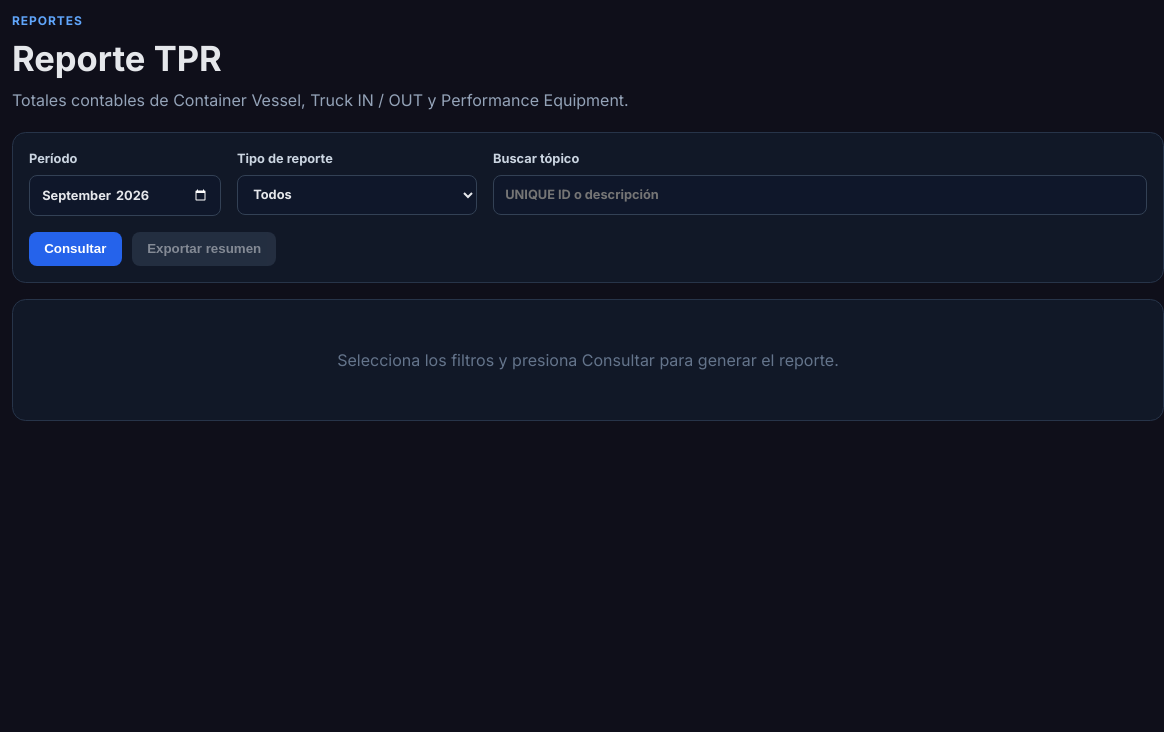
TprReportView › renders exactly the three requested summary columns after consulting
What coordinates should you click on to do the following:
click the button "Consultar"
I would click on:
 (75, 249)
Its box is [29,232,122,266].
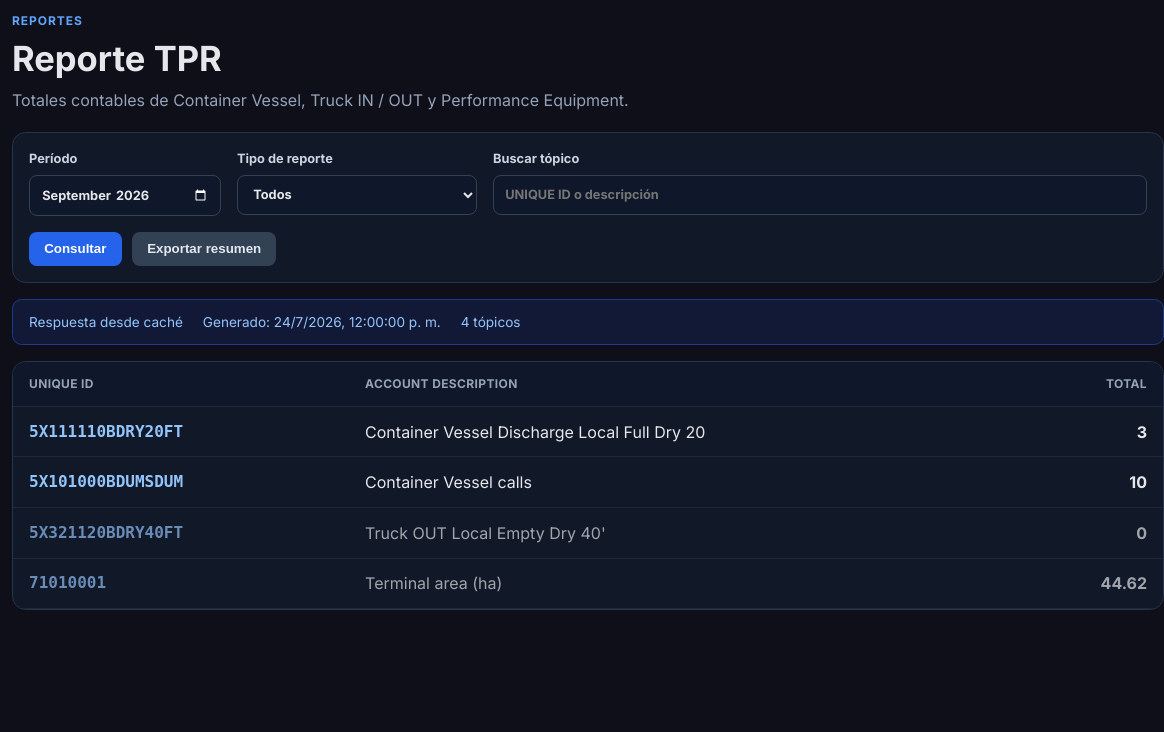
Expected: the text "5X111110BDRY20FT" is shown, [13,406,349,457]
Expected: the text "Container Vessel Discharge Local Full Dry 20" is shown, [349,406,1021,457]
